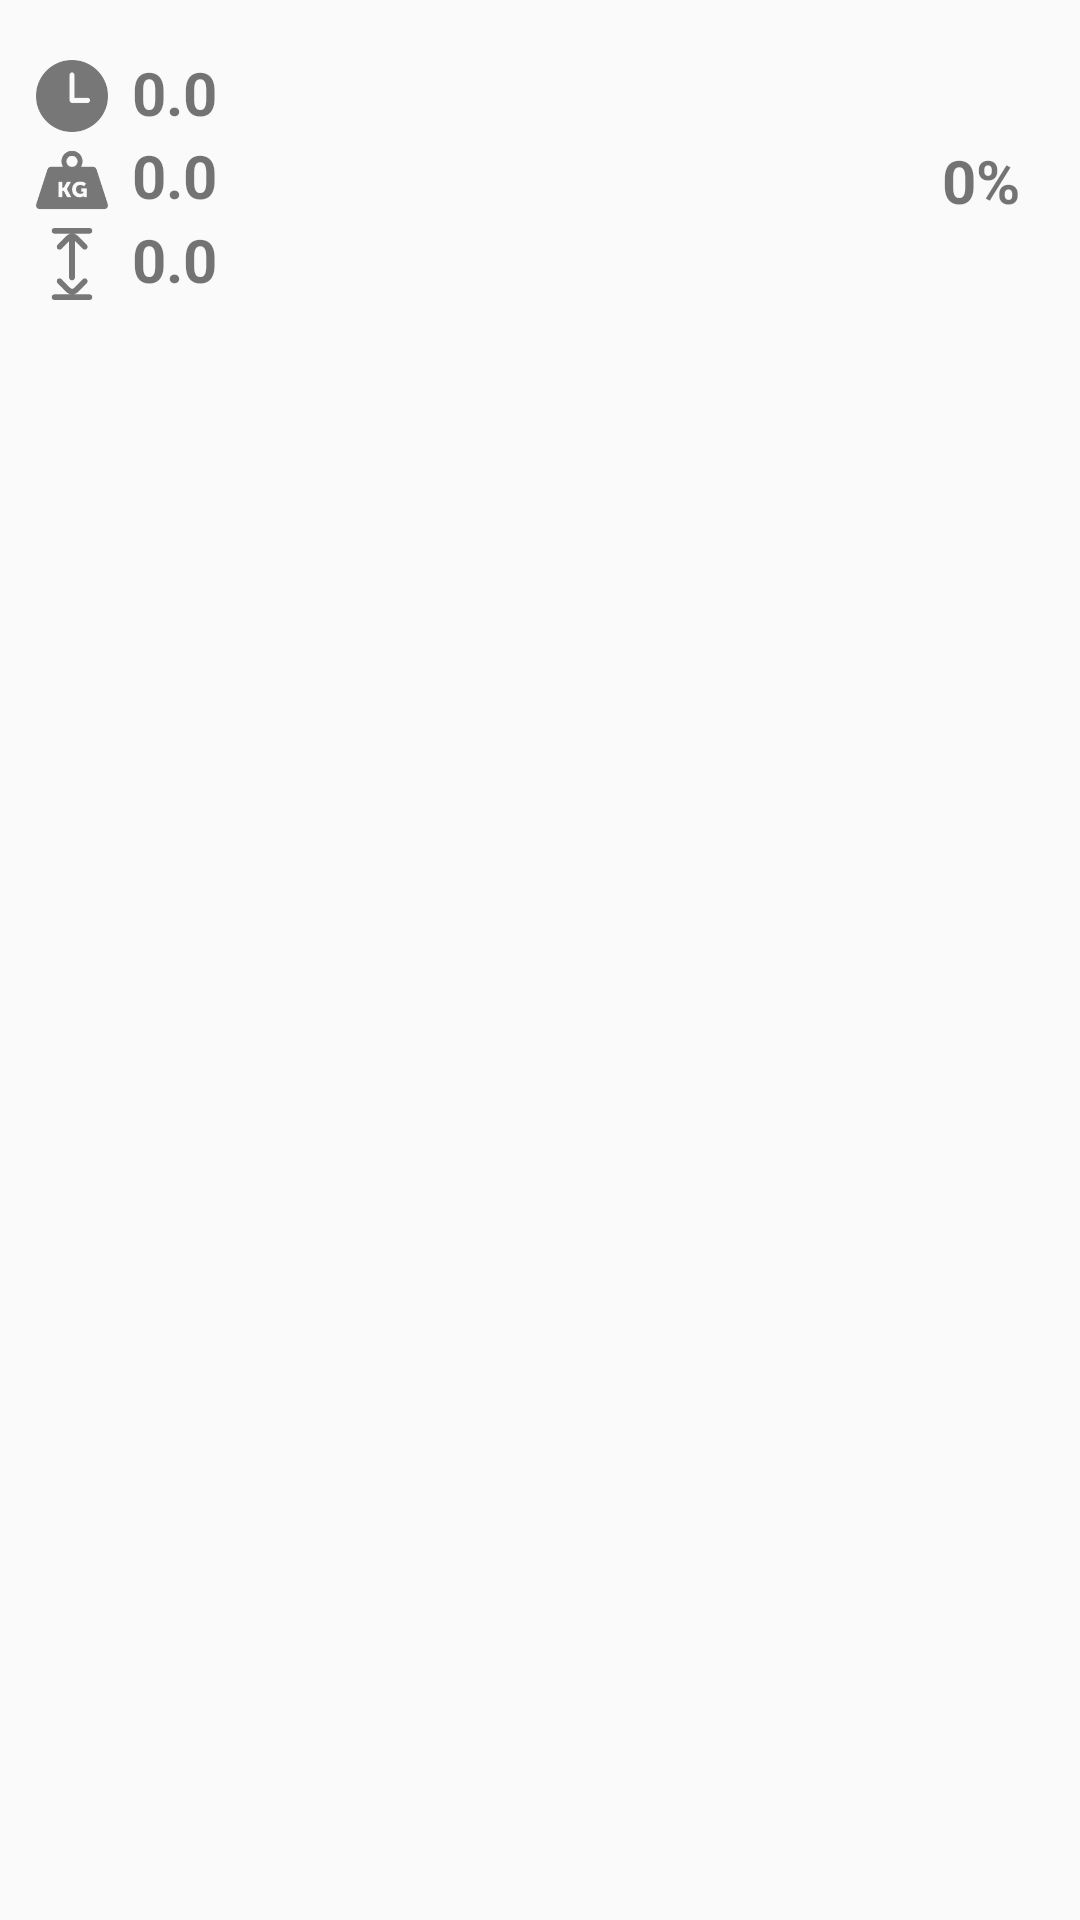

Where to tap for icons on this 1080*1920 app screen, as (x=x, y=y):
growth: (x=72, y=264)
time: (x=72, y=96)
weight: (x=72, y=180)
